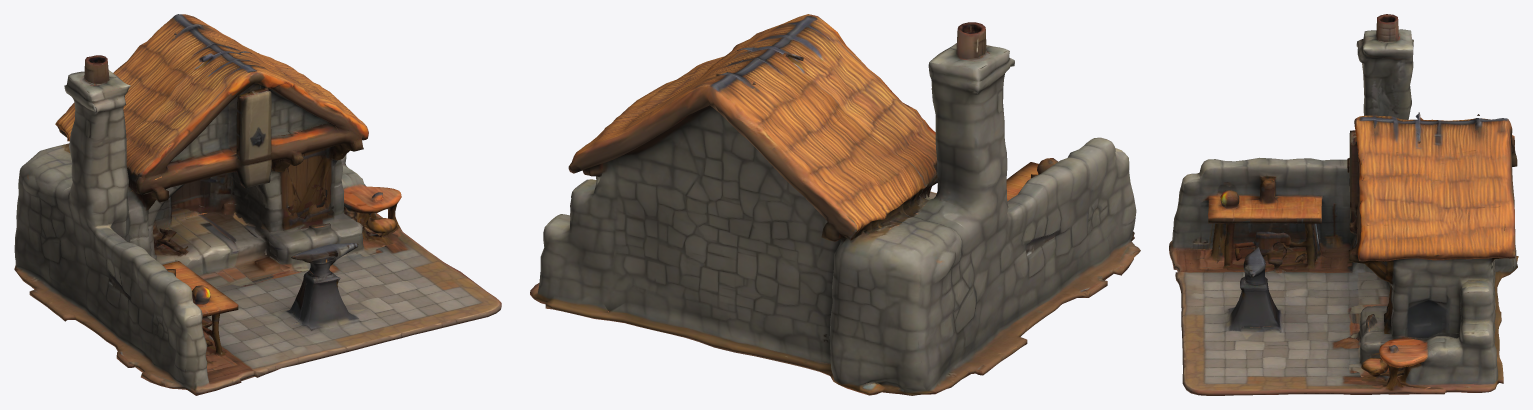
The model's file is forge.glb.
The picture shows the model from 3 angles, left to right: view 1: azimuth 30°, elevation 25°; view 2: azimuth 150°, elevation 25°; view 3: azimuth 270°, elevation 25°; orthographic projection. The views are drawn at different scales.
Bounding box in the file's own units: 1.95 × 1.33 × 1.78.
Materials: 1 (1 with a texture image).
